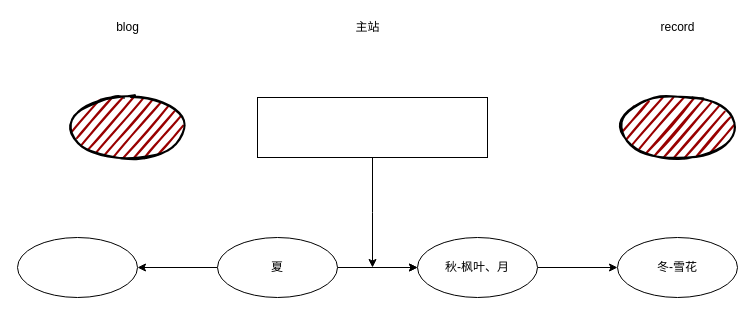
Some shapes in this 756 by 315 pixel diagram are drawn without their labels. Each missing label, with the centre of its shape:
春-百花、: point (77, 267)
春有百花秋有月，夏有凉风冬有雪。 若无闲事挂心头，便是人间好时节。: point (372, 127)
